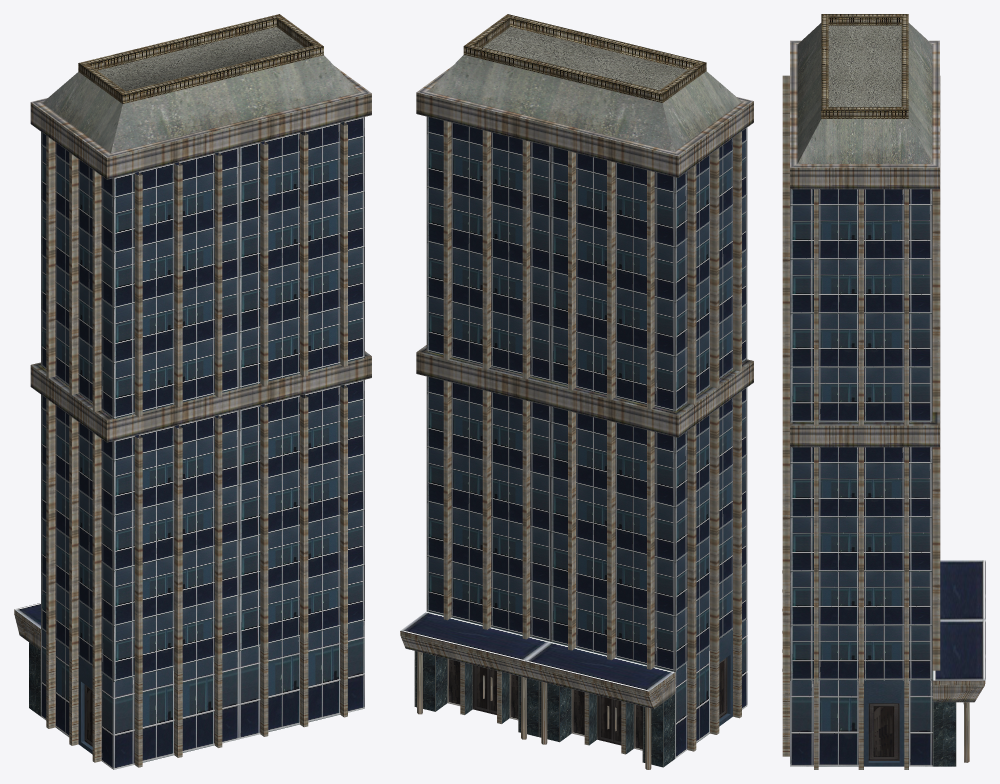
Rendered from Building_11.fbx.
The picture shows the model from 3 angles, left to right: view 1: azimuth 30°, elevation 25°; view 2: azimuth 150°, elevation 25°; view 3: azimuth 270°, elevation 25°; orthographic projection.
Parts seen in each view (by area): view 1: Building_11; view 2: Building_11; view 3: Building_11.
Boxes of the visible parts, bbox=[...] form: Building_11: bbox=[14, 14, 371, 769]; Building_11: bbox=[400, 14, 753, 769]; Building_11: bbox=[782, 14, 985, 769].
Bounding box in the file's own units: 990 × 2344 × 669.
